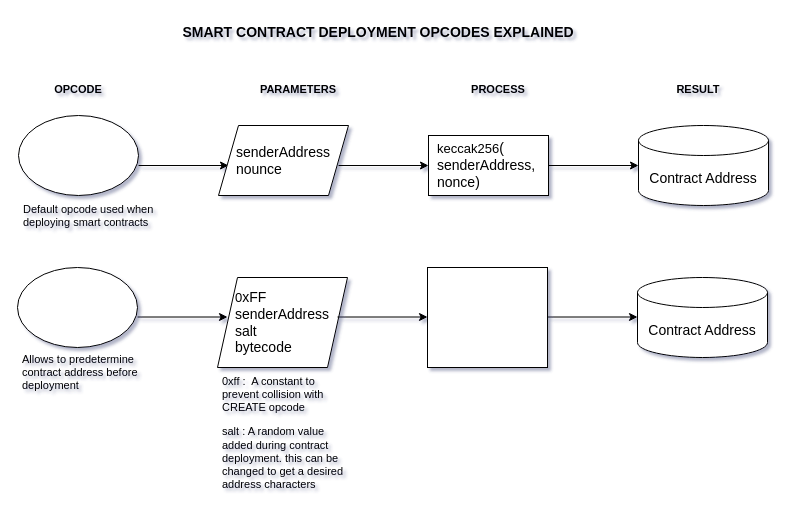
Image size: 792x532. Some labels were removed from this diagram. Each missing label, with the centre of its shape:
"CREATE" goes at point 78,155.
"CREATE2" goes at point 77,307.
"keccak256 ( 0 xFF, senderAddress, salt, bytecode)" goes at point 487,317.
